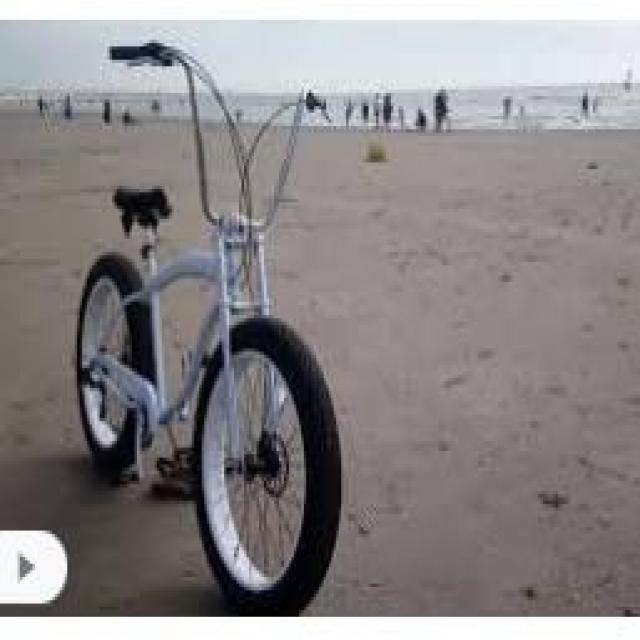bicycle: (71, 44, 333, 598)
